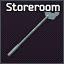Health Resort universal utility room key: (0, 0, 64, 64)
